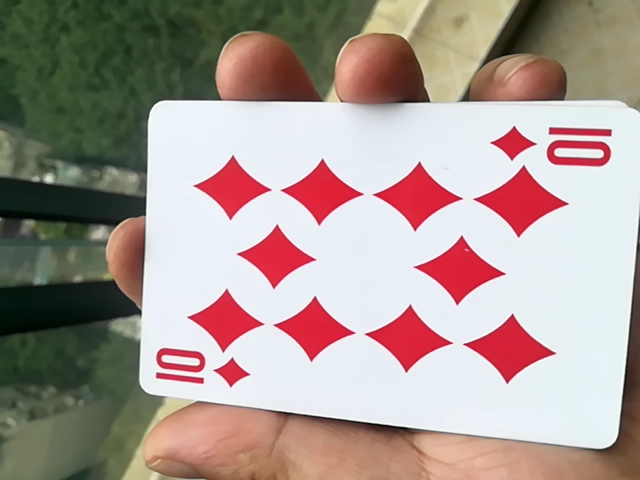fk 10: (123, 113, 640, 453)
